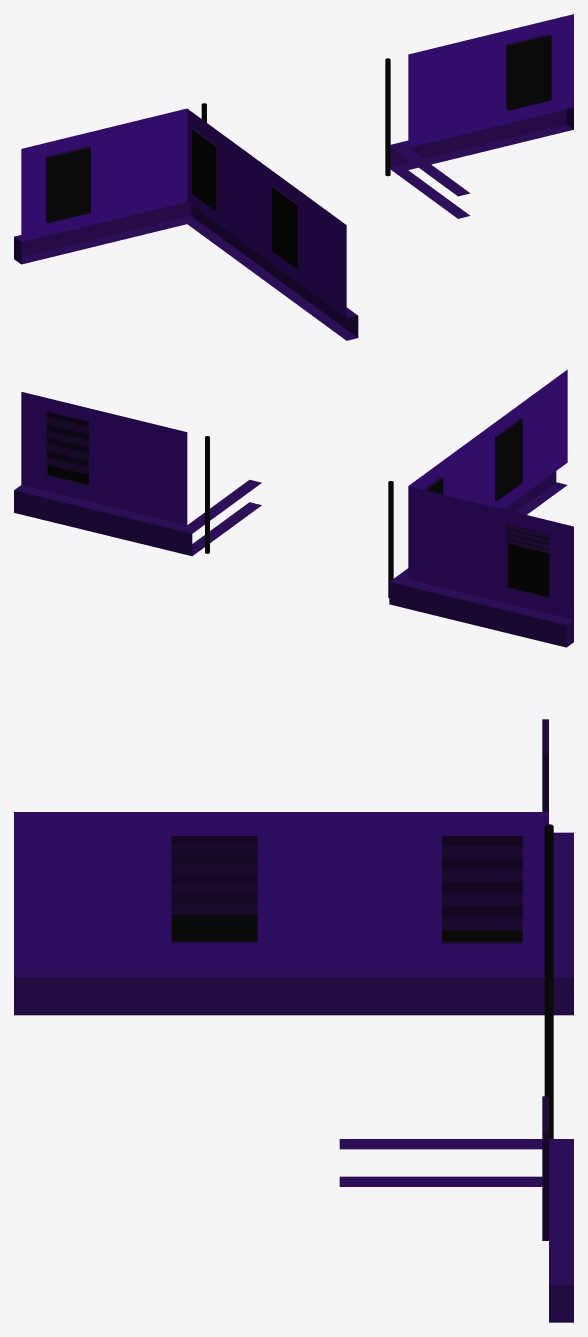
Rendered from RunnablePartHole3.fbx.
3 views of the same model, one above another, from view 1: azimuth 30°, elevation 25°; view 2: azimuth 150°, elevation 25°; view 3: azimuth 270°, elevation 25° (orthographic). The views are drawn at different scales.
Visible parts, largest first — view 1: Plane.011; view 2: Plane.011; view 3: Plane.011.
Boxes of the visible parts, box(x1,y1,x2,y2) form: Plane.011: box(14, 14, 573, 340); Plane.011: box(14, 369, 573, 647); Plane.011: box(14, 719, 573, 1322).
Size of the model in its own units: 10000 by 2000 by 5232.
